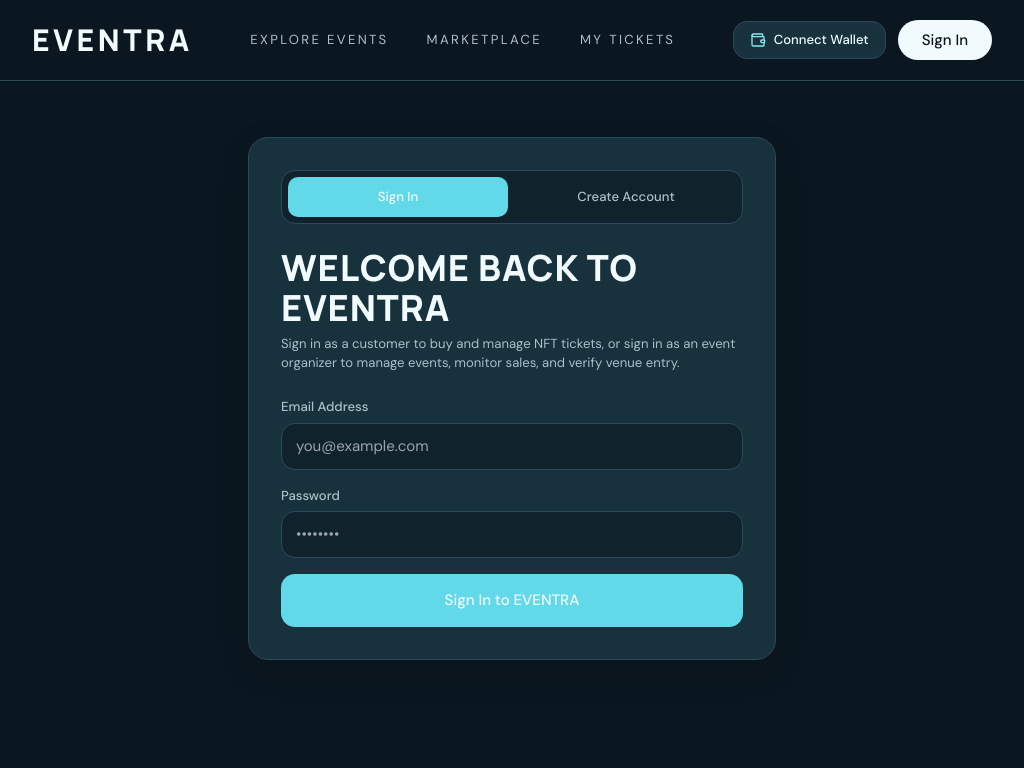
Scenario: EVENTRA Frontend Suite › 2. Validates Auth form inputs and displays clear error states
Type "invalid-email" into the field labelled "Email Address" at (512, 446), box [281,423,743,470]
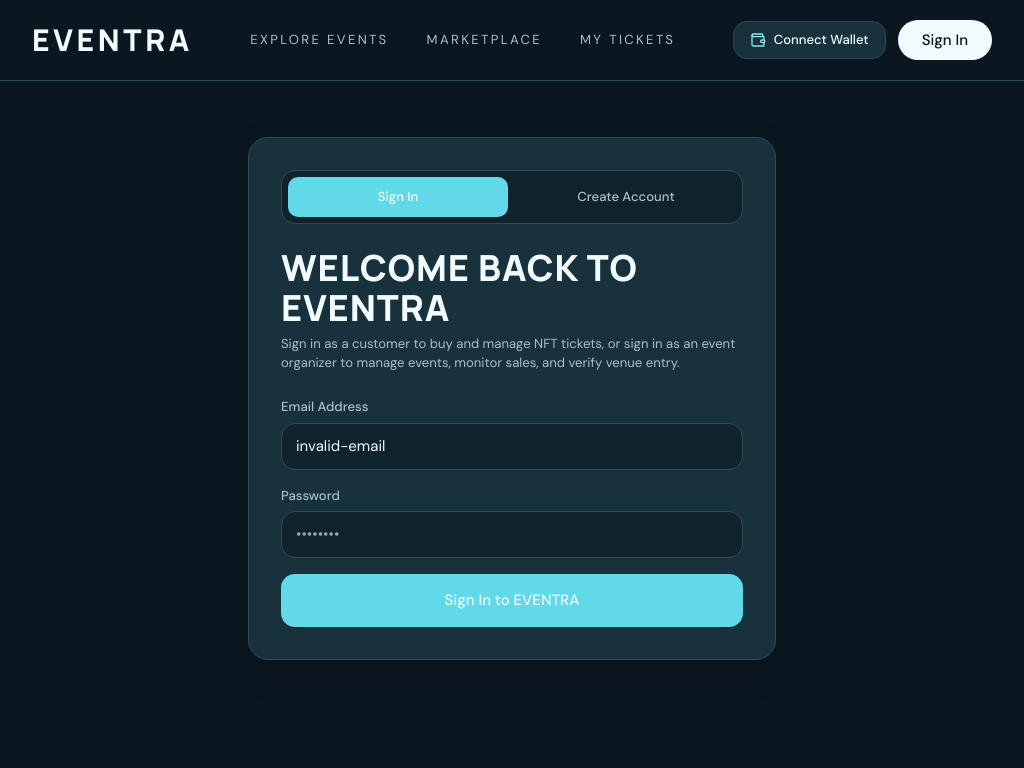
Type "123" into the password field labelled "Password" at (512, 535), box [281,511,743,558]
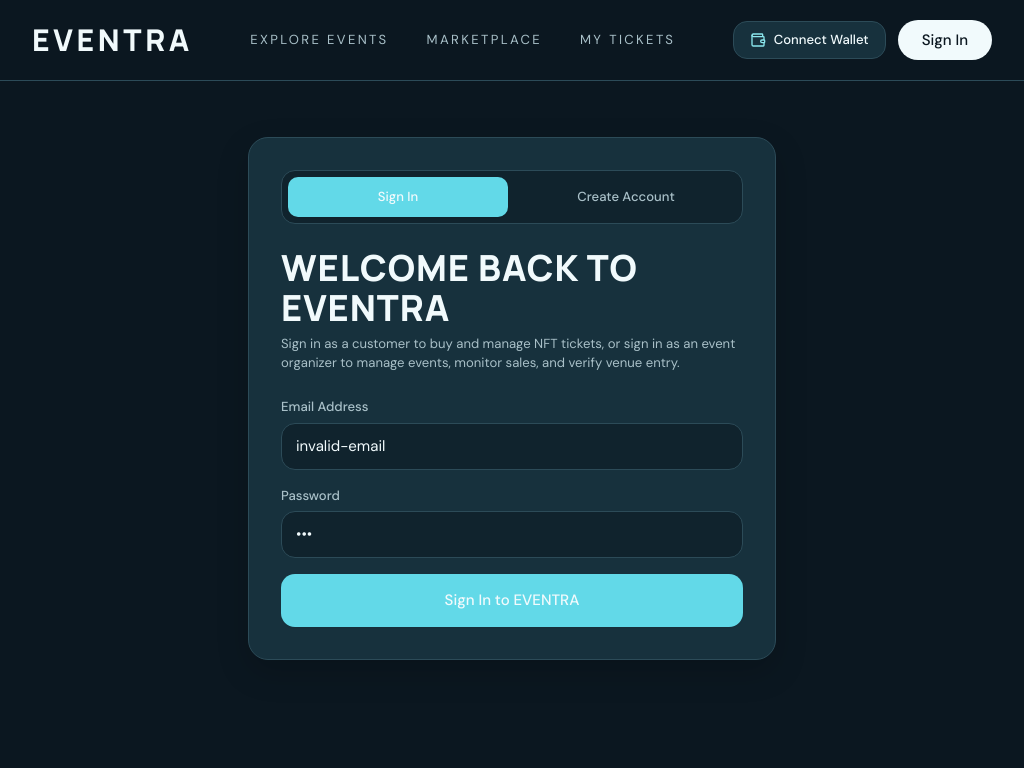
Click the button "Sign In to EVENTRA" at (512, 600), box [281,574,743,627]
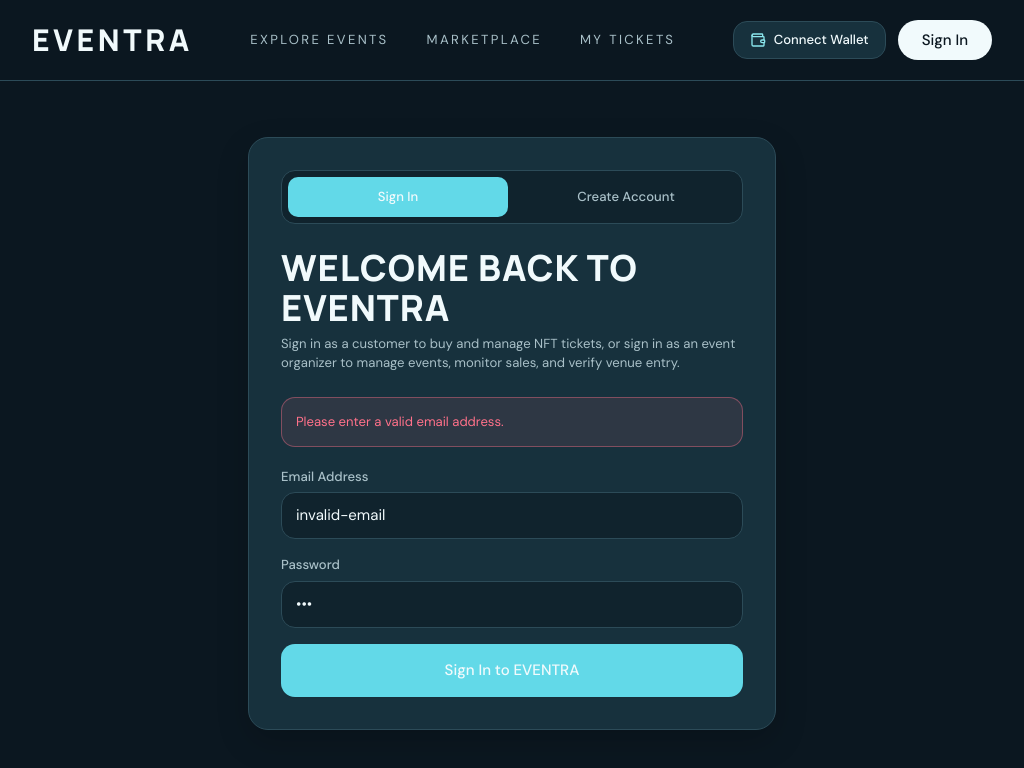
Check: the message shows "valid email", box [296,413,504,430]
